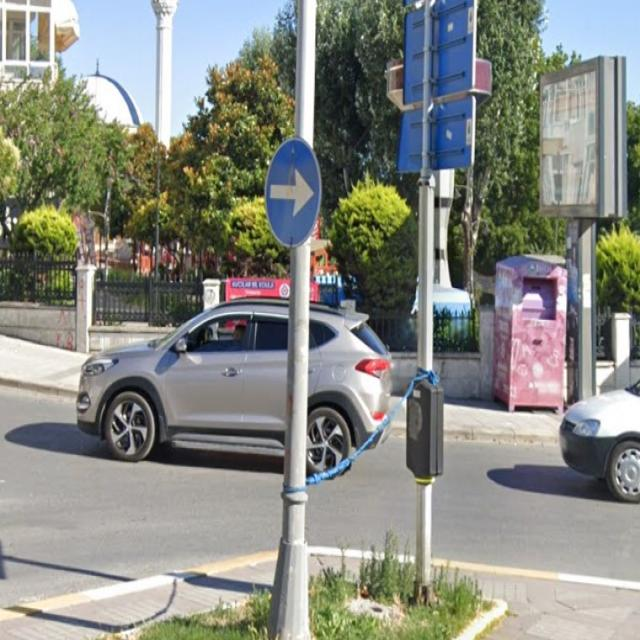Turn Right: (266, 139, 325, 245)
